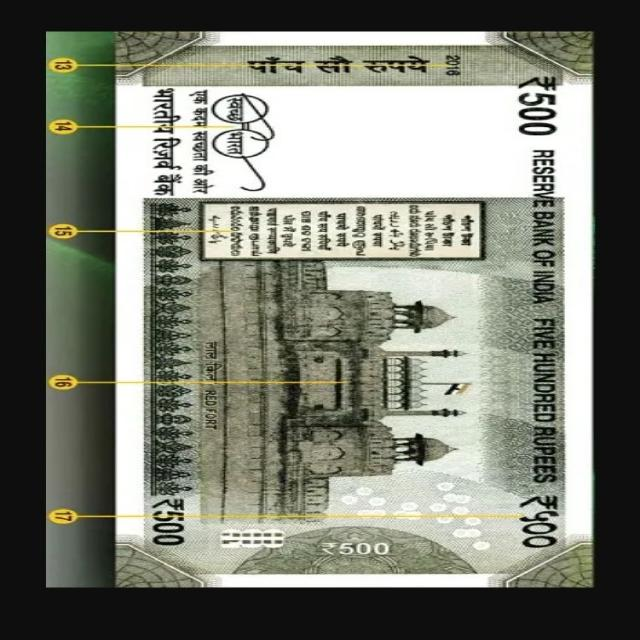500IndianRupees: (116, 32, 589, 589)
